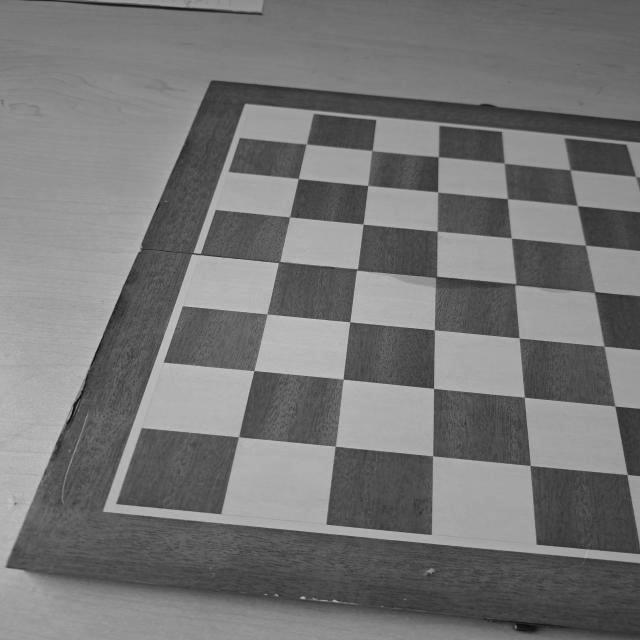chess-table-corners: (94, 487, 142, 520), (232, 98, 267, 120)
